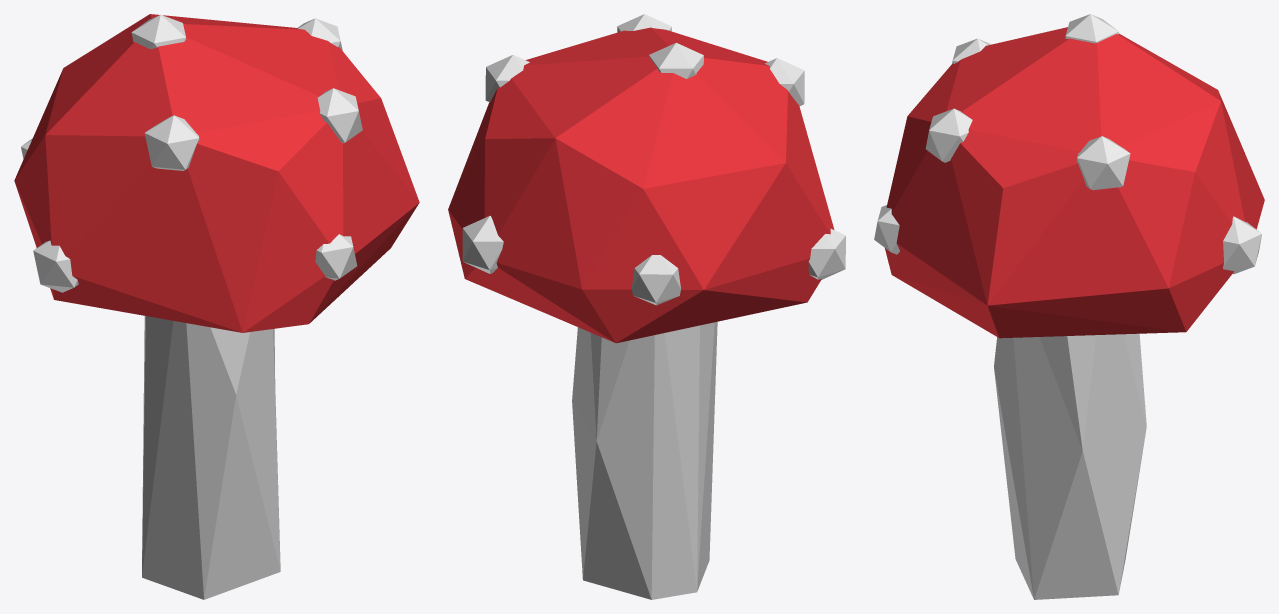
The model's file is foilage-shroom-1.gltf.
The picture shows the model from 3 angles, left to right: view 1: azimuth 30°, elevation 25°; view 2: azimuth 150°, elevation 25°; view 3: azimuth 270°, elevation 25°; orthographic projection. The views are drawn at different scales.
Visible parts, largest first — view 1: Mushroom1; view 2: Mushroom1; view 3: Mushroom1.
Part boxes in pixels (bbox=[...]): Mushroom1: bbox=[14, 14, 419, 599]; Mushroom1: bbox=[448, 14, 845, 599]; Mushroom1: bbox=[874, 14, 1264, 599].
Bounding box in the file's own units: 0.7969 × 1.21 × 0.7863.
